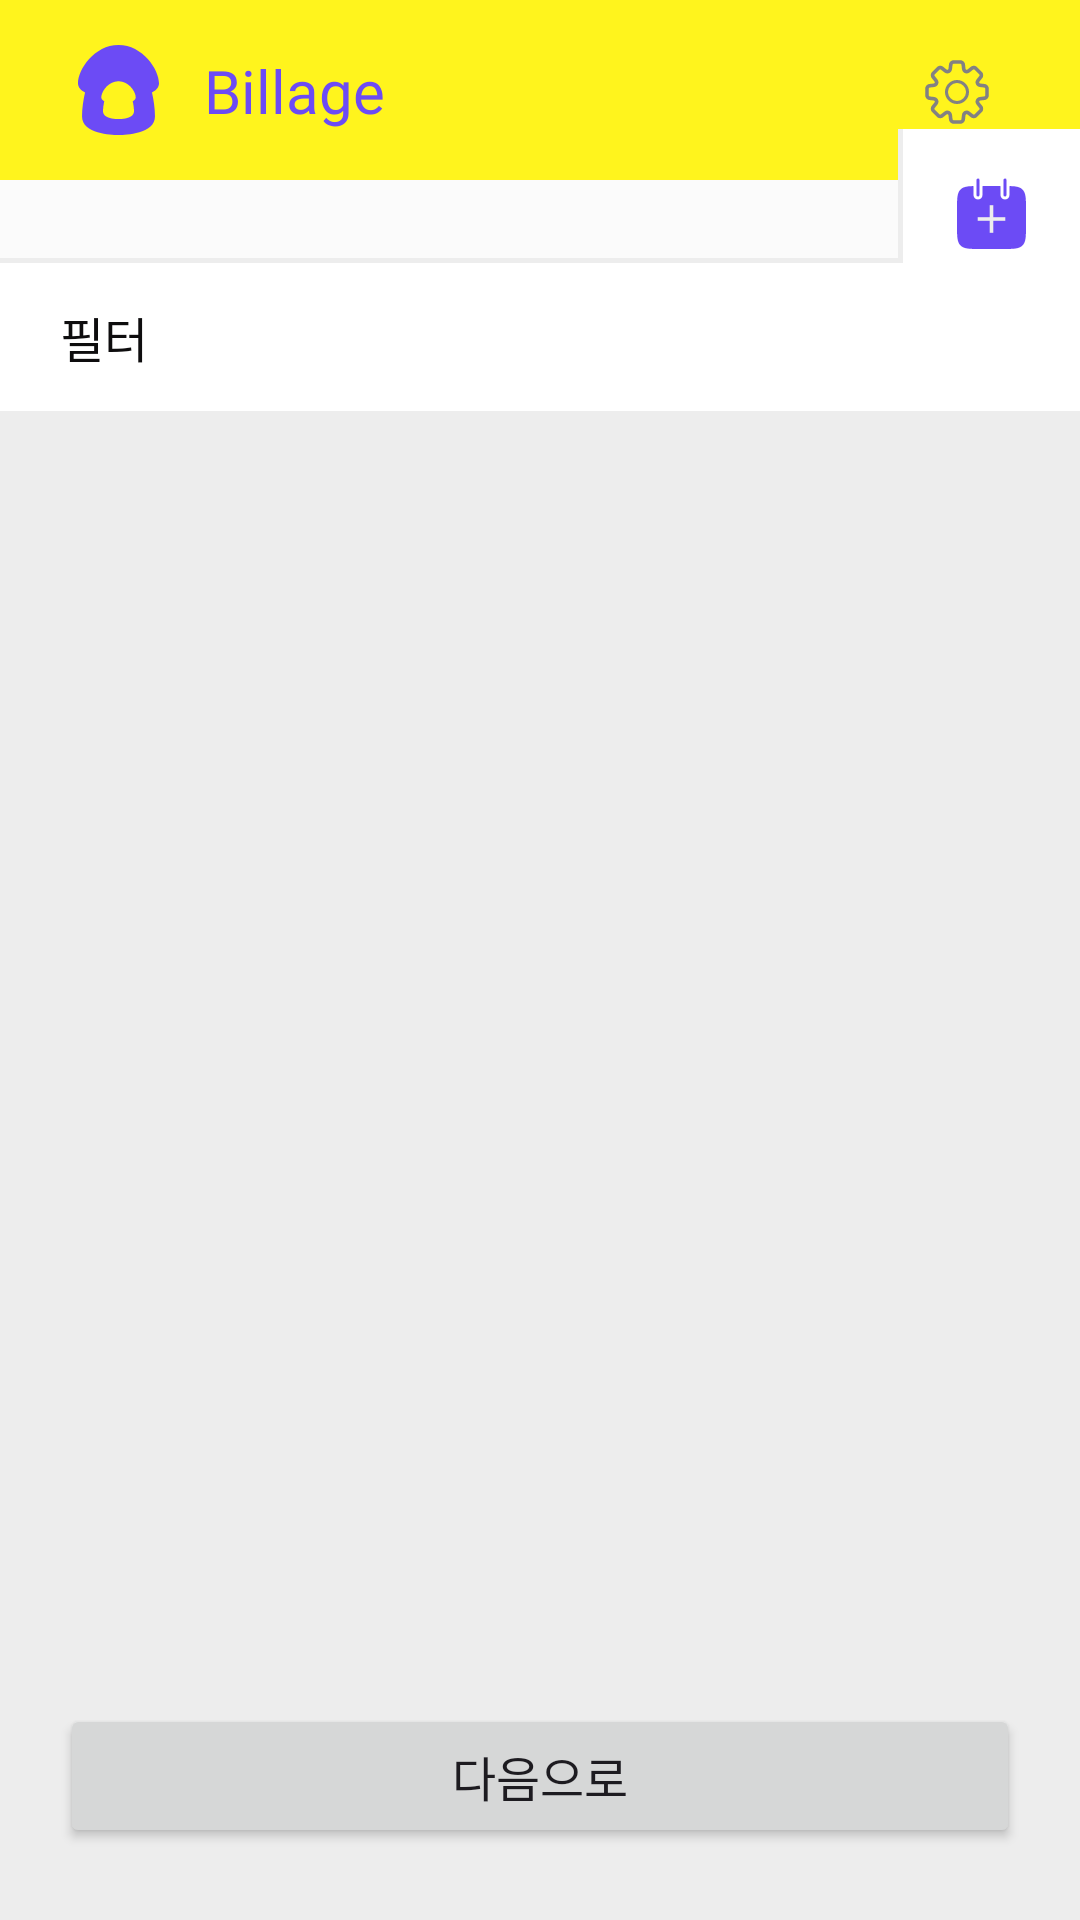

Screen size 1080 x 1920. Icon name, then its box in pixels as box=[x1, y1, x2, y2]:
calendar: box=[957, 178, 1026, 249]
setting: box=[925, 60, 989, 124]
